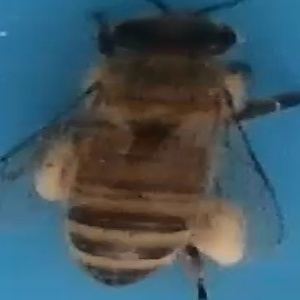bee: (32, 2, 298, 296)
